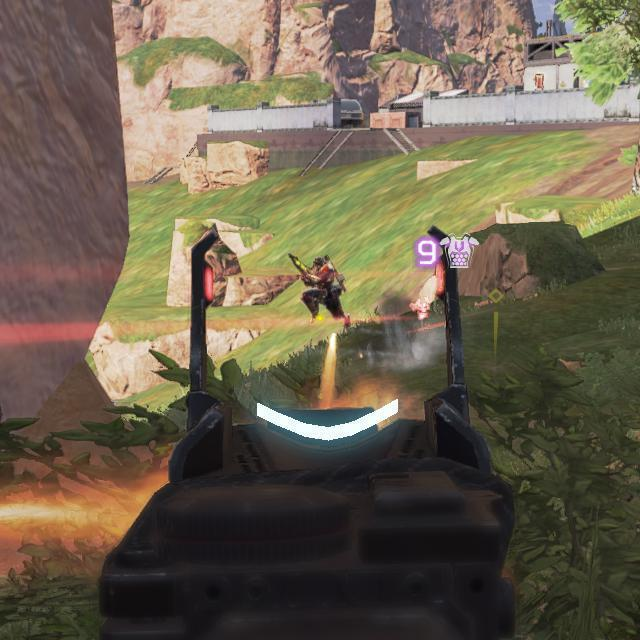avatar: (297, 253, 348, 323)
